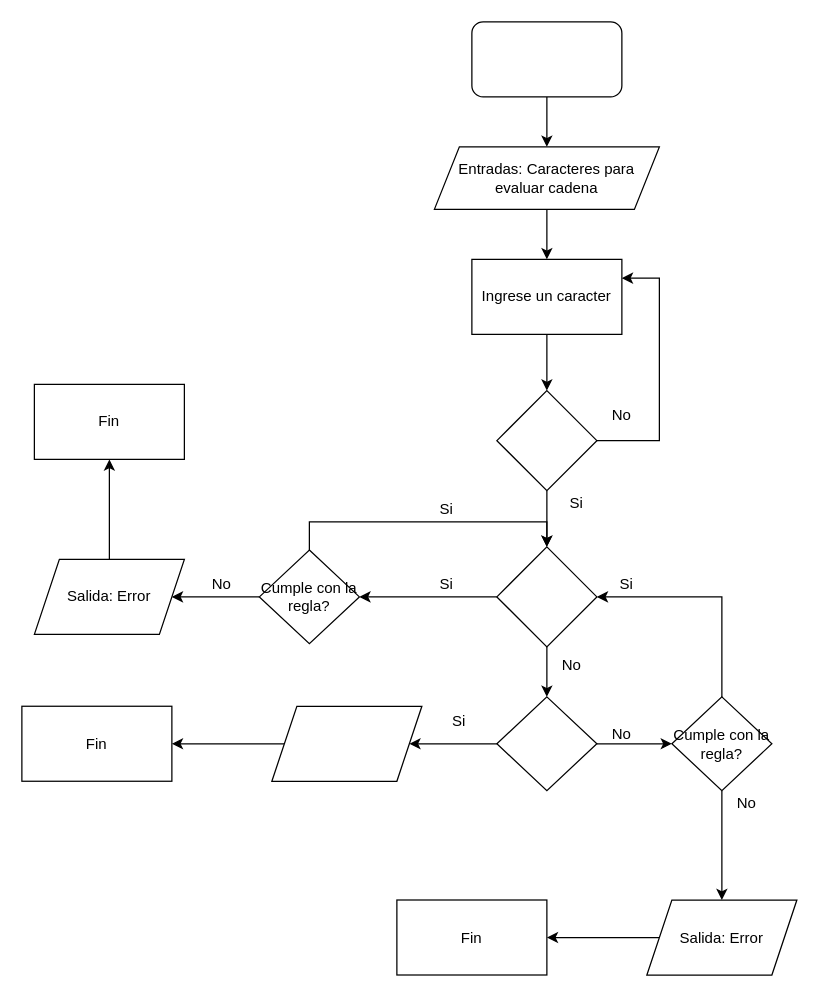
Image size: 819x998. Some labels were removed from this diagram. The shapes that lost their labels are listed below. From the top down, each one's centre as x and y in pixels, then its label:
the point at 546,59: Inicio
the point at 546,440: Esta llena la cadena?
the point at 546,596: Es una posición crítica?
the point at 346,743: Salida: Aceptado
the point at 546,743: Es el final de cadena?
